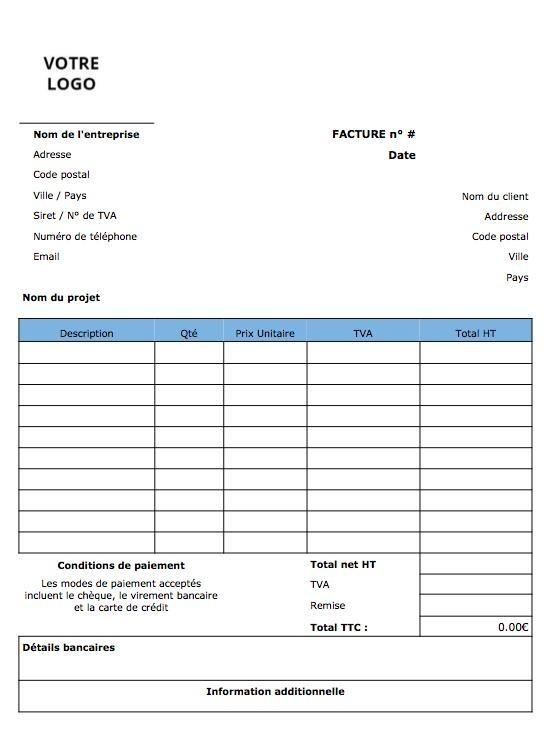ROI: (19, 317, 531, 553), (21, 638, 529, 680), (309, 555, 532, 636), (25, 127, 152, 263), (403, 184, 543, 293), (329, 125, 550, 169)
